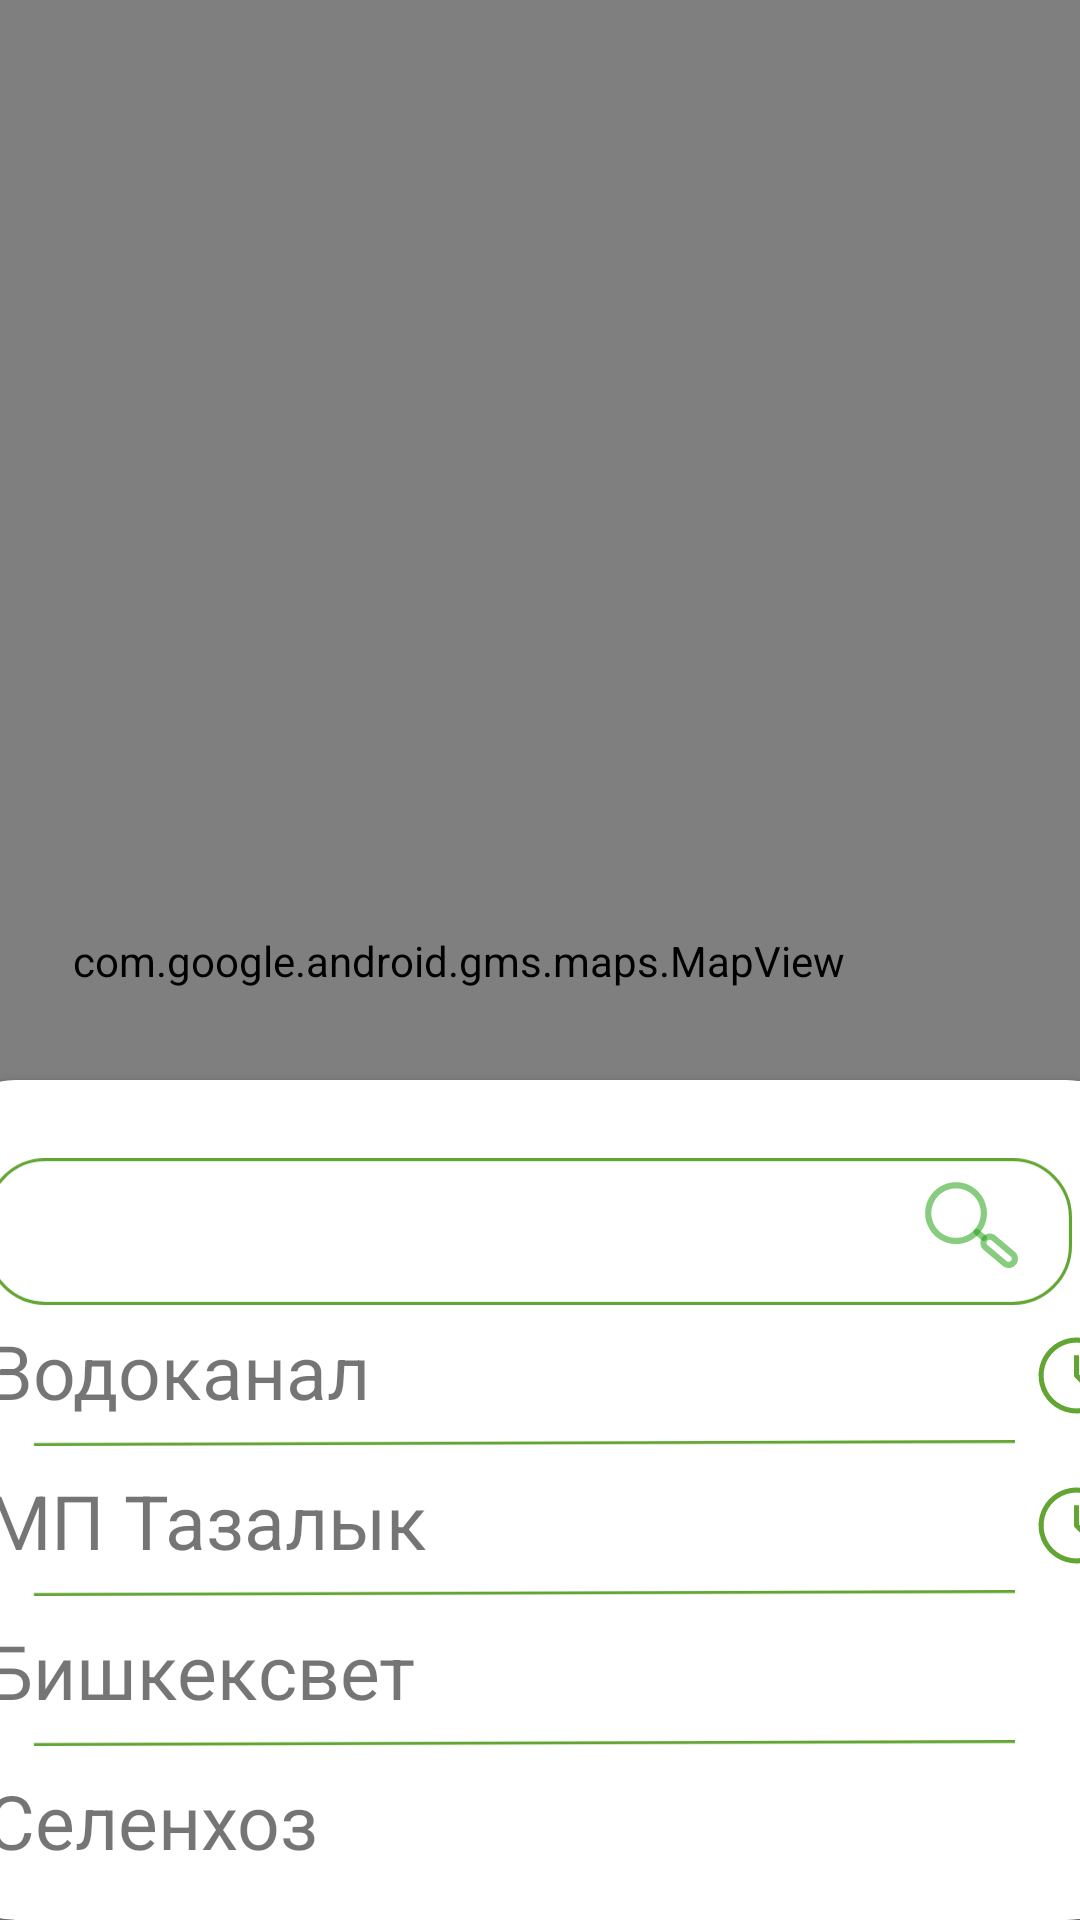

Where icons sit on this 1080×1920 app screen, as bbox(x1, y1, x2, y2):
lupa: bbox(925, 1182, 1018, 1268)
